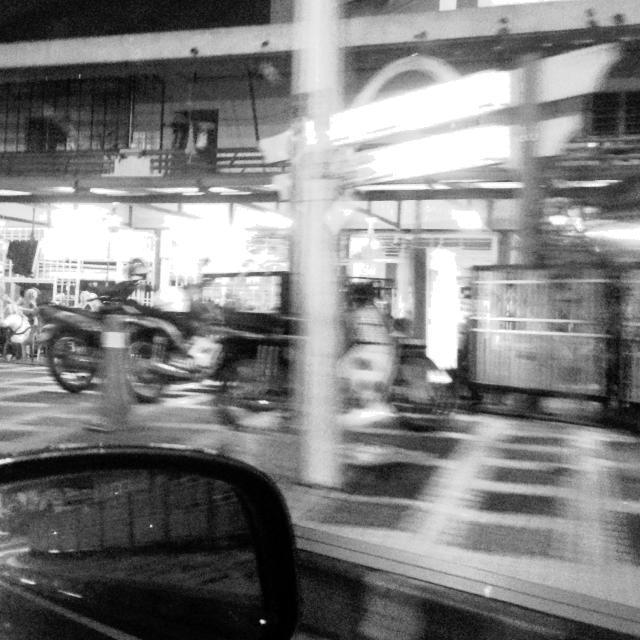Motorcycle: (209, 262, 459, 439), (113, 272, 292, 421), (35, 275, 192, 405)
